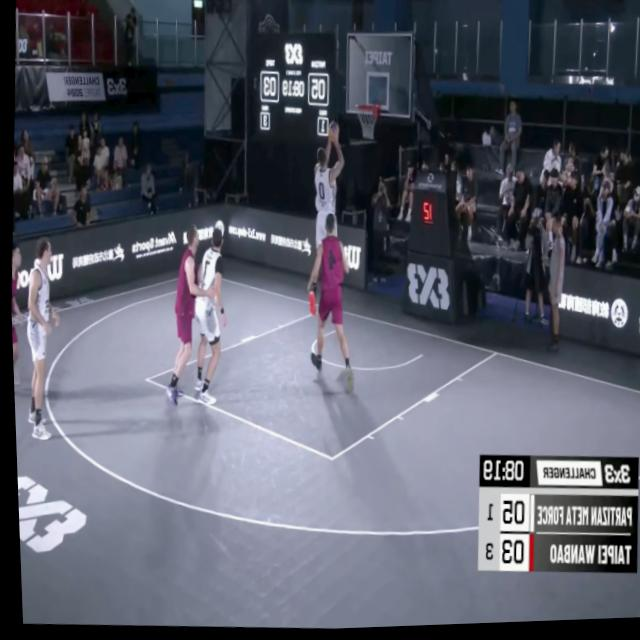ball: (326, 120, 341, 145)
hoop: (352, 101, 382, 142)
player: (156, 219, 220, 414), (295, 212, 362, 398), (16, 237, 66, 441), (185, 223, 233, 408), (308, 128, 346, 261), (7, 241, 28, 389)
